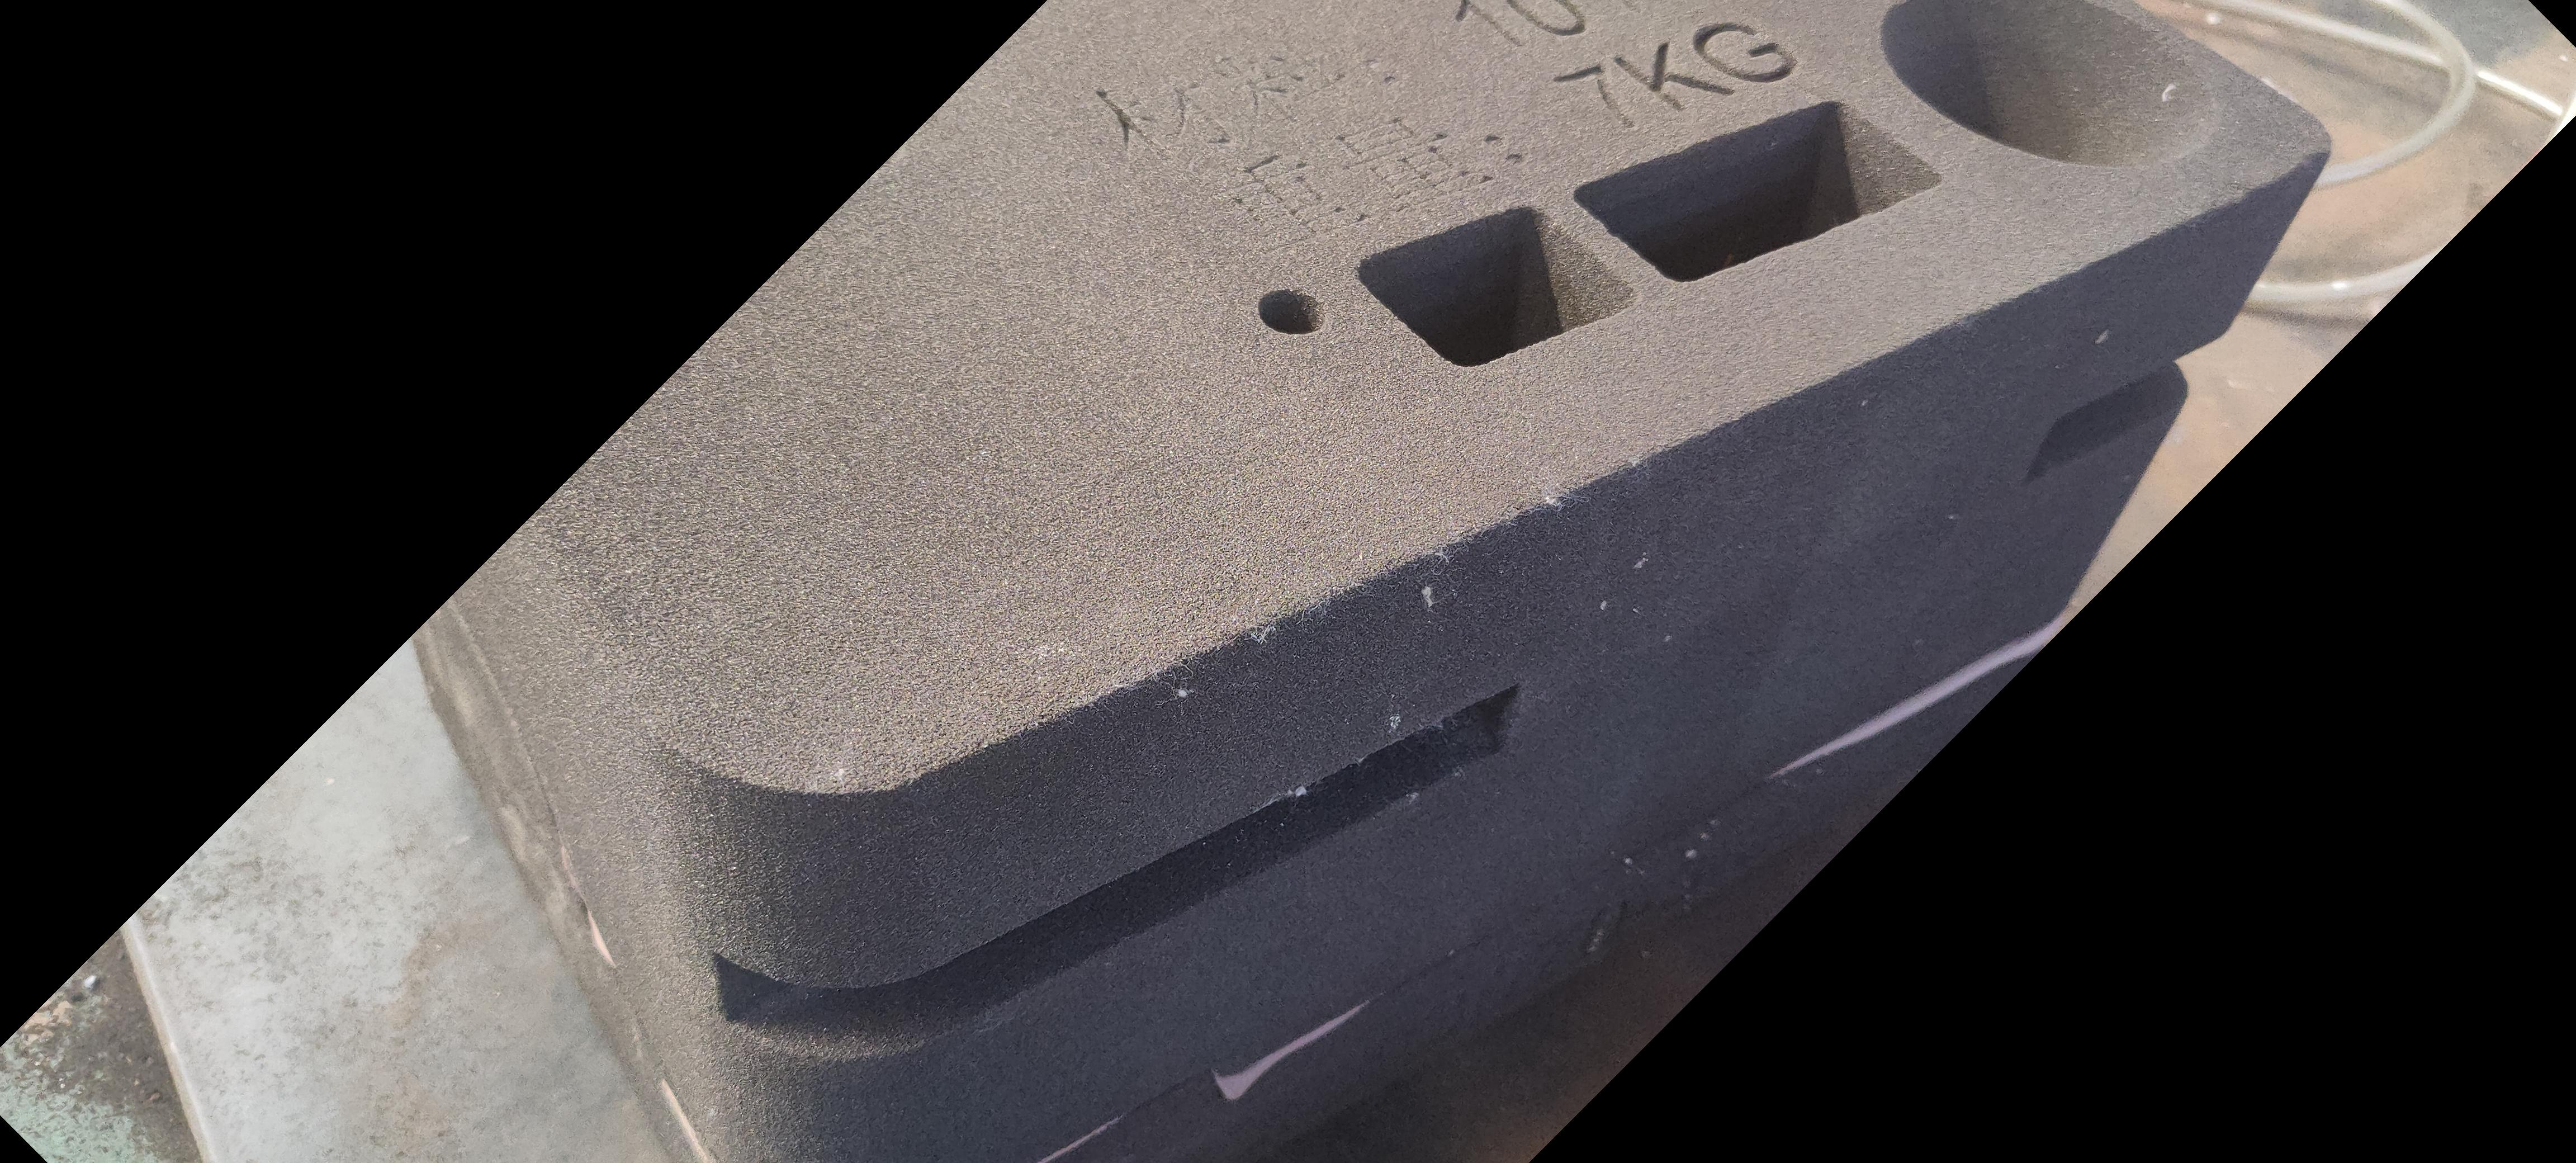pouring hole: (1878, 0, 2216, 168)
